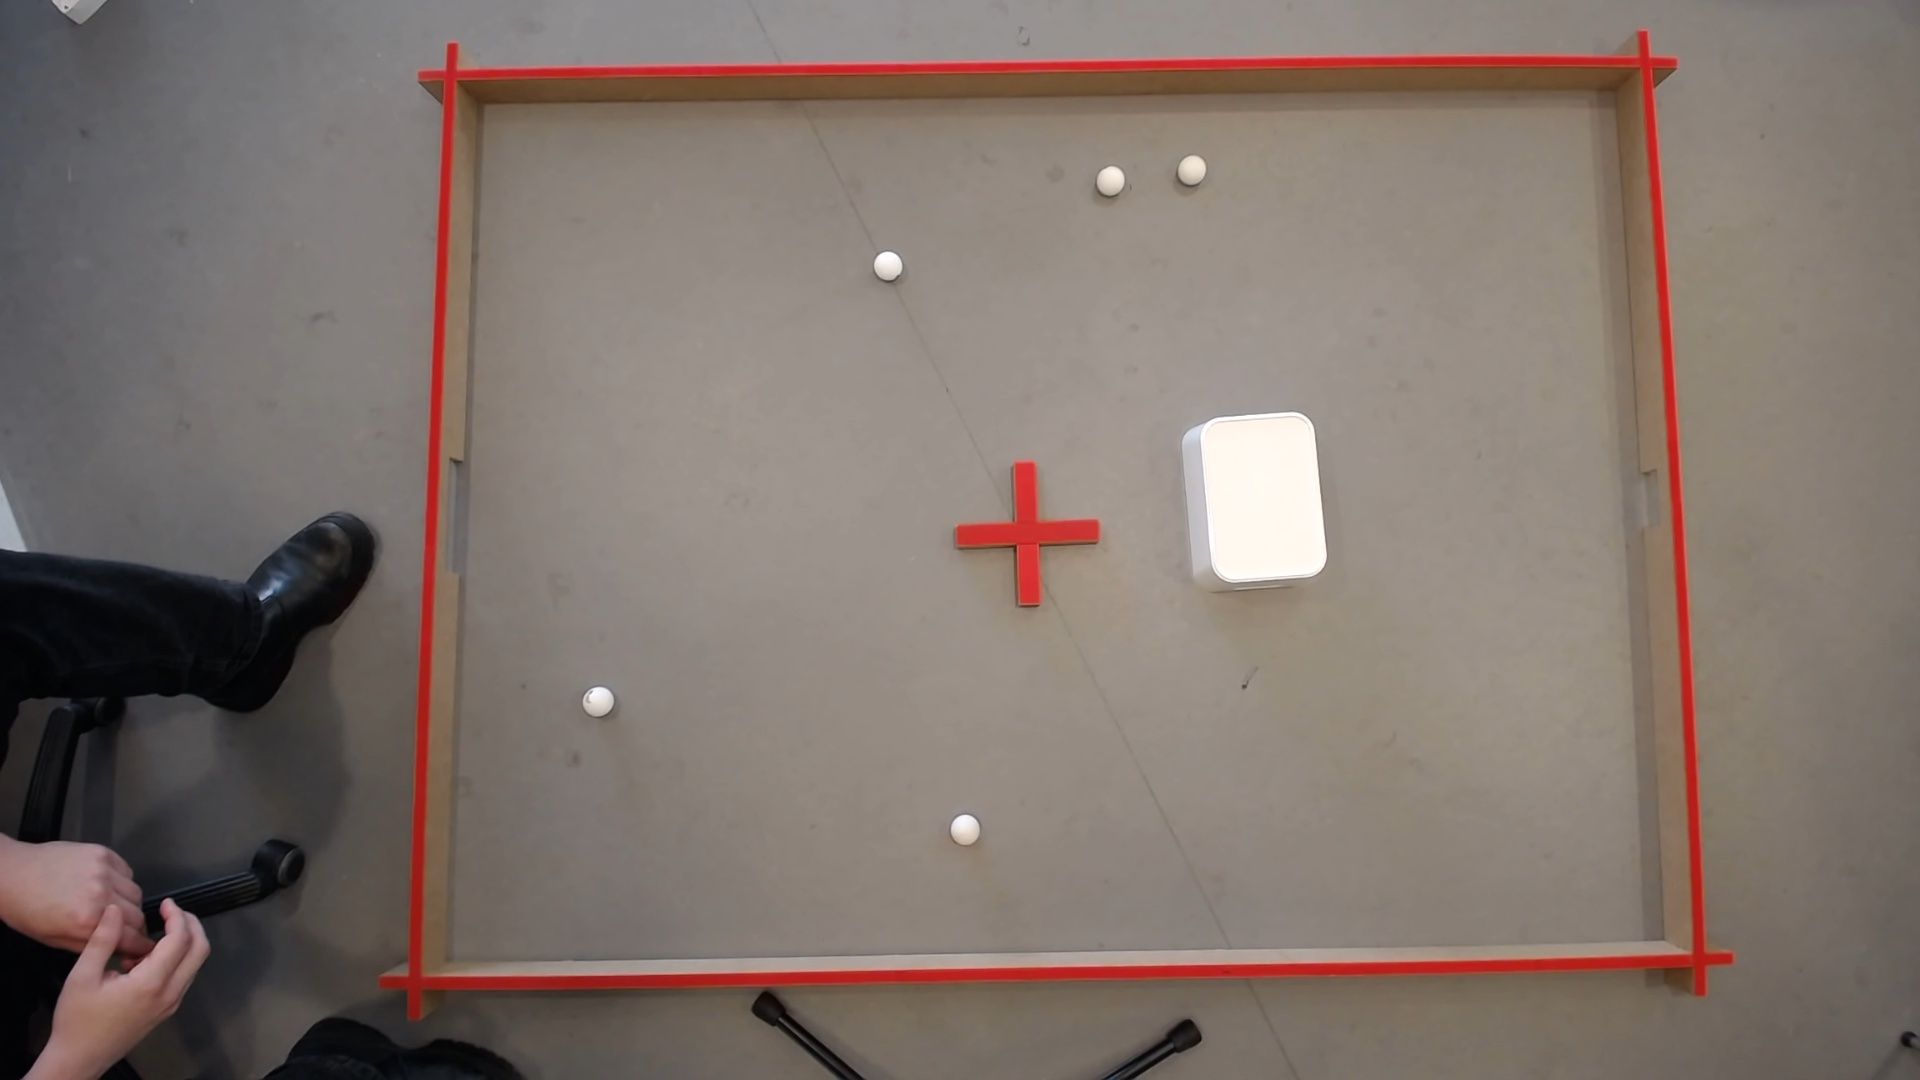balls: (1180, 406, 1329, 587), (870, 247, 905, 278), (948, 810, 978, 840), (1178, 152, 1208, 181), (1096, 161, 1126, 190), (584, 683, 613, 712)
car: (148, 931, 175, 963)
